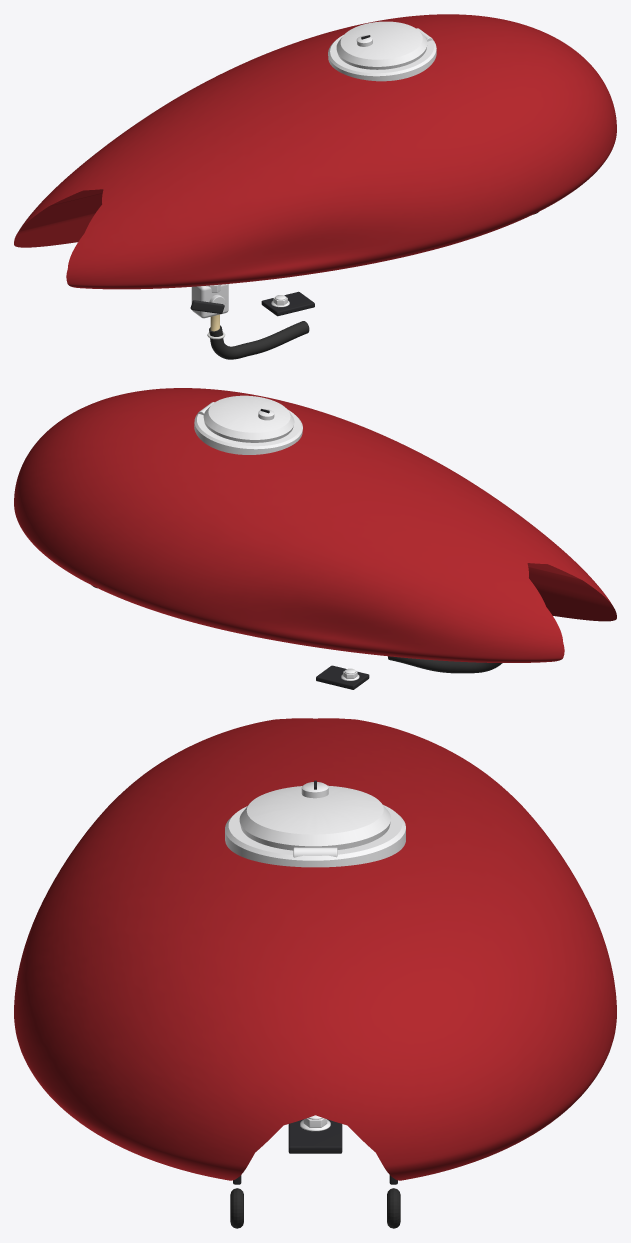
File: fuel_tank.glb
3 views of the same model, one above another, from view 1: azimuth 30°, elevation 25°; view 2: azimuth 150°, elevation 25°; view 3: azimuth 270°, elevation 25° (orthographic). The views are drawn at different scales.
Parts seen in each view (by area): view 1: fuel_tank__shell, fuel_tank__filler_cap, fuel_tank__fuel_line, fuel_tank__fuel_tap, fuel_tank__rear_mount; view 2: fuel_tank__shell, fuel_tank__filler_cap, fuel_tank__fuel_line, fuel_tank__rear_mount; view 3: fuel_tank__shell, fuel_tank__filler_cap, fuel_tank__rear_mount, fuel_tank__grommets.
Boxes of the visible parts, x1,y1,x2,y2 form: fuel_tank__shell: [14, 14, 616, 289]; fuel_tank__filler_cap: [328, 21, 436, 81]; fuel_tank__fuel_line: [207, 321, 309, 359]; fuel_tank__fuel_tap: [190, 284, 228, 331]; fuel_tank__rear_mount: [261, 291, 314, 316]; fuel_tank__shell: [14, 388, 616, 662]; fuel_tank__filler_cap: [194, 395, 302, 454]; fuel_tank__fuel_line: [388, 656, 502, 673]; fuel_tank__rear_mount: [316, 665, 369, 689]; fuel_tank__shell: [14, 718, 616, 1180]; fuel_tank__filler_cap: [225, 780, 405, 867]; fuel_tank__rear_mount: [288, 1115, 342, 1153]; fuel_tank__grommets: [230, 1188, 400, 1228].
Bounding box in the file's own units: 43.51 × 19.11 × 24.65.
